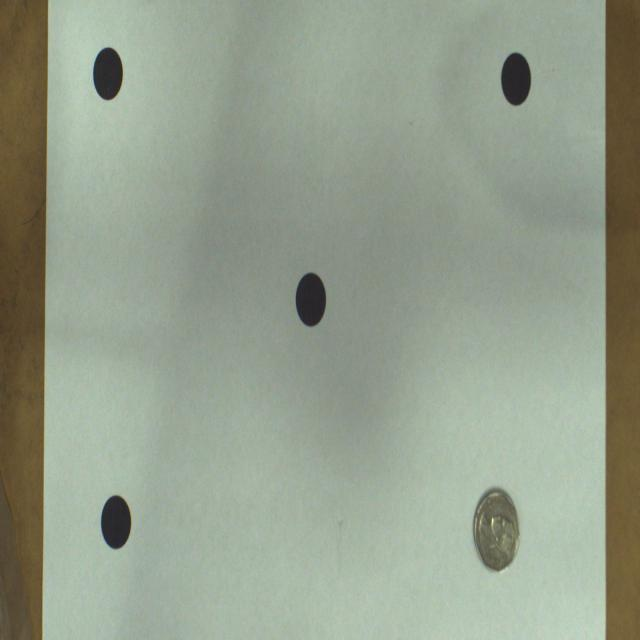space: (474, 489, 519, 571), (296, 273, 326, 327), (92, 47, 122, 100), (101, 496, 131, 549), (501, 53, 531, 104)
